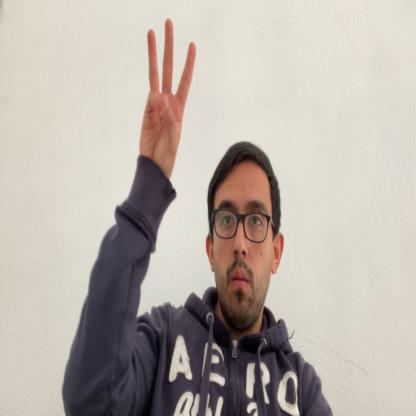W: (139, 17, 195, 169)
